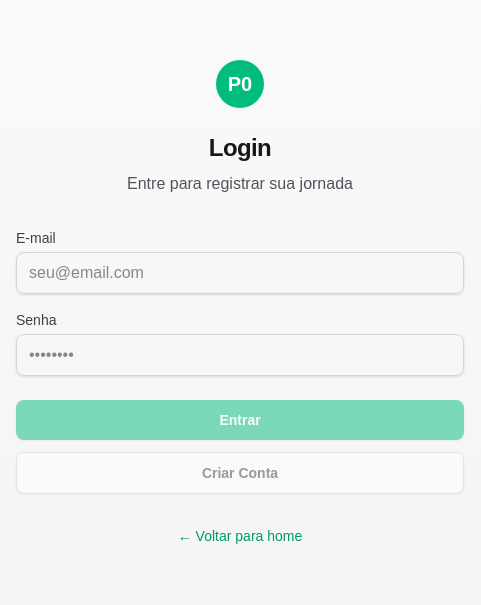
Test: Login page › shows success message on successful sign up
This screenshot has width=481, height=605.
Step 1. Type "new@example.com" into the field labelled "E-mail" → (240, 273), box [16,252,464,294]
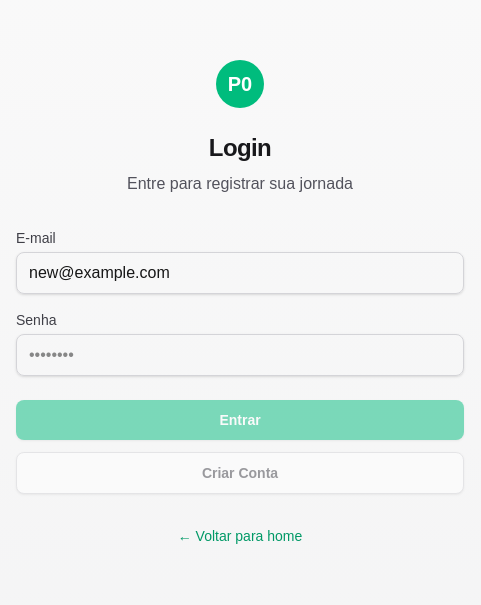
Step 2. Type "newpassword123" into the password field labelled "Senha" → (240, 355), box [16,334,464,376]
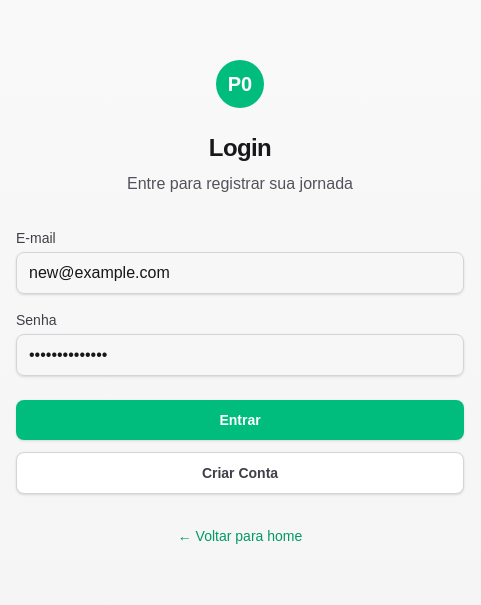
Step 3. Click the button "Criar Conta" → click(240, 473), box [16,452,464,494]
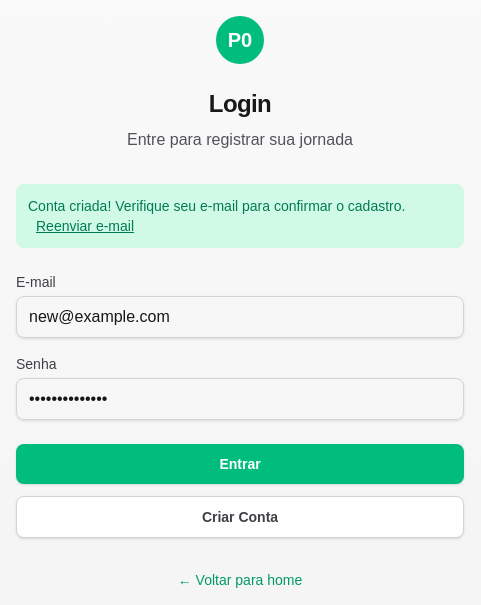
Check: the text "Conta criada! Verifique seu e-mail" is shown, box [28,198,405,214]
